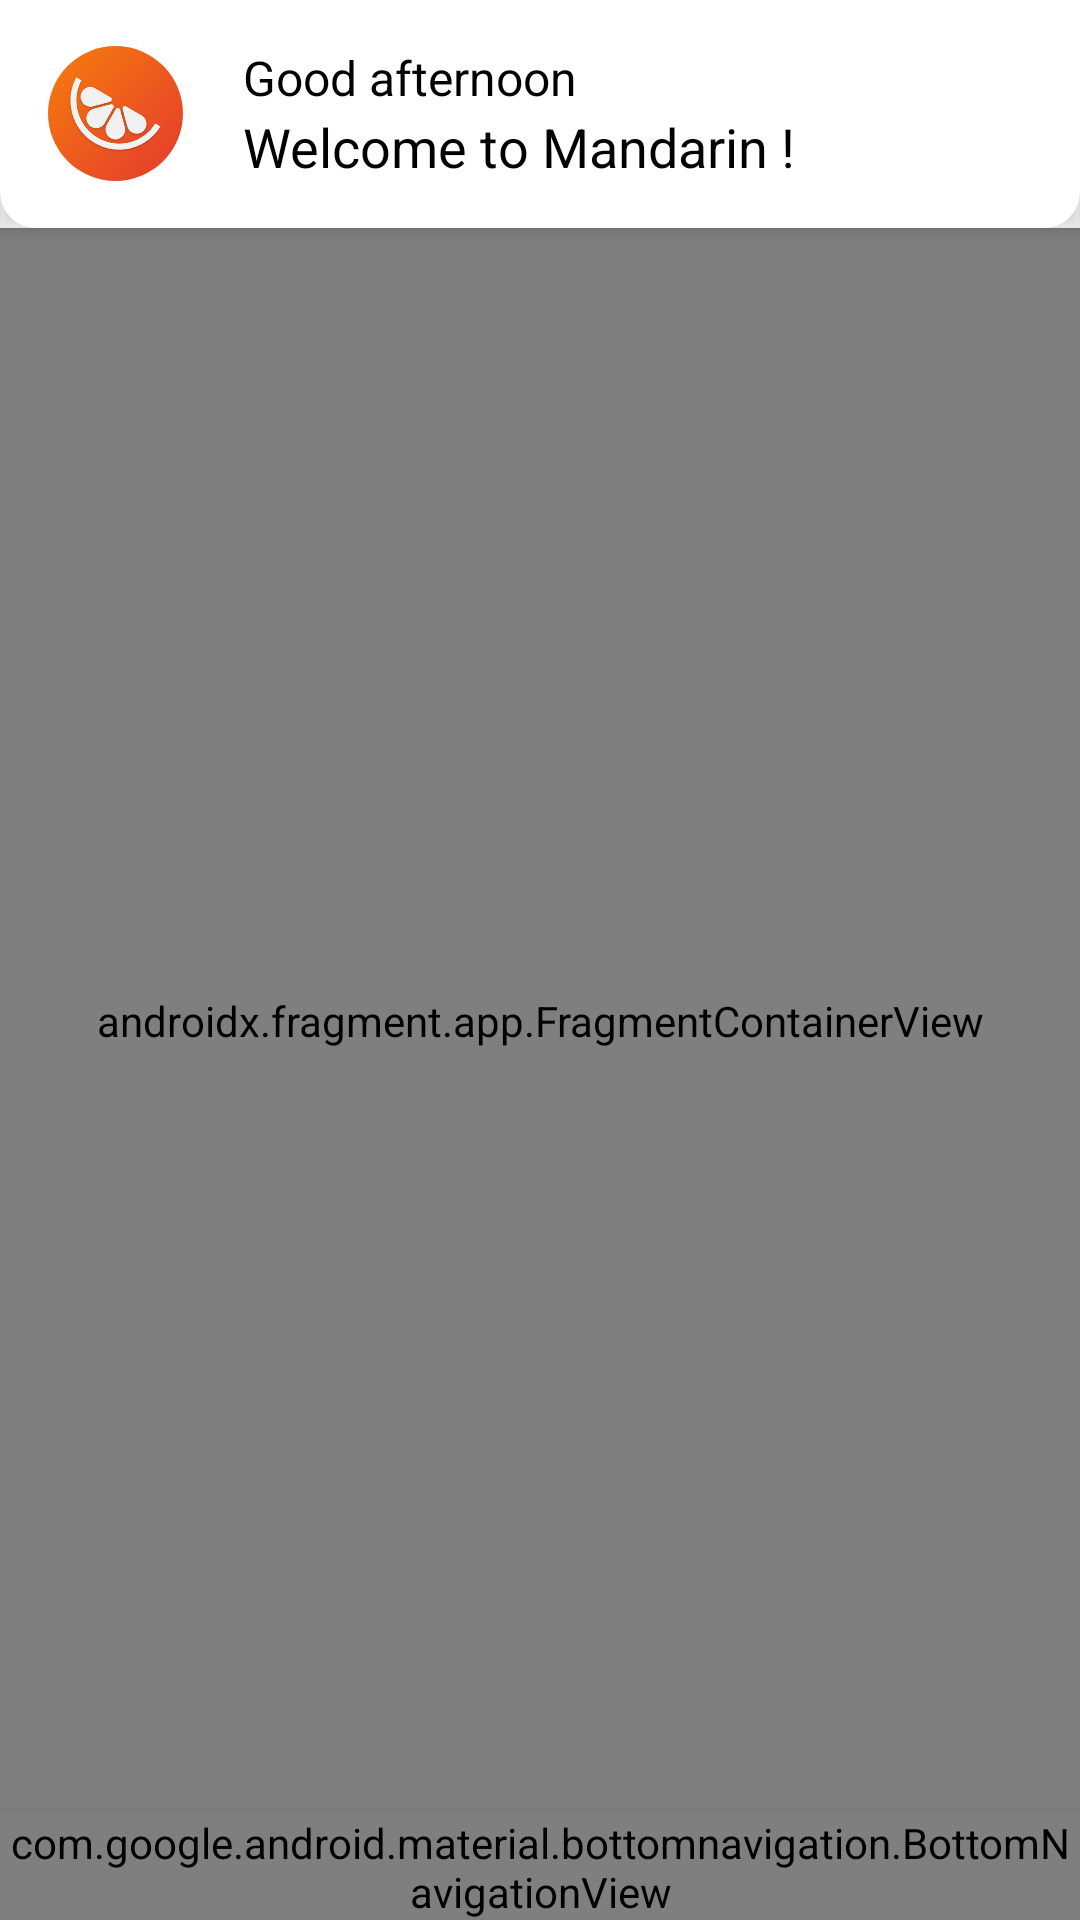

Icon click points for this 1080×1920 phone screenshot, format (x,y):
mandarin app: (115,113)
